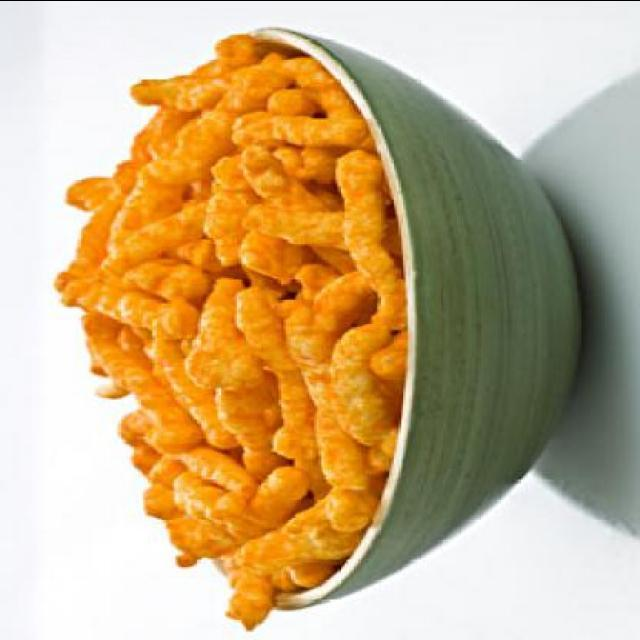Chips packaged: (72, 72, 366, 554)
